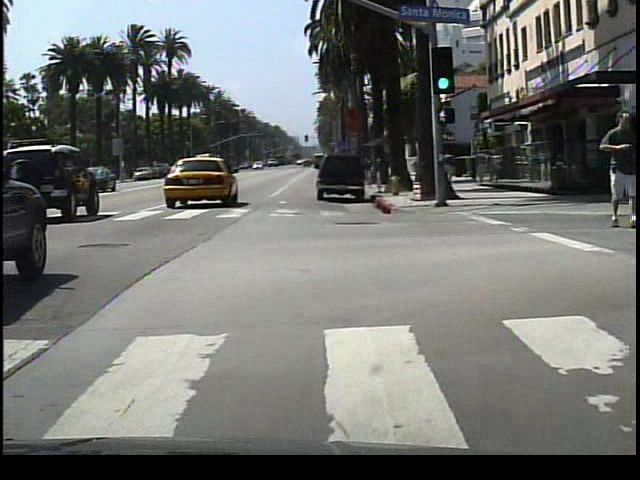person: (598, 104, 639, 227)
